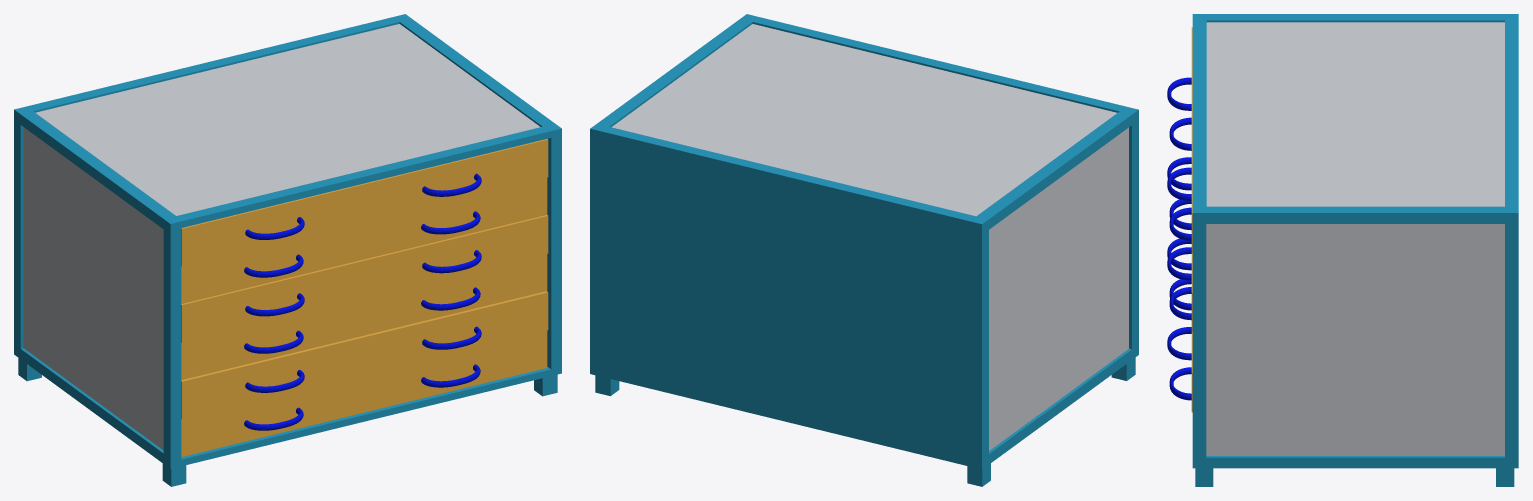
Rendered from table cabinet.fbx.
3 views of the same model, side by side, from view 1: azimuth 30°, elevation 25°; view 2: azimuth 150°, elevation 25°; view 3: azimuth 270°, elevation 25° (orthographic). The views are drawn at different scales.
Visible parts, largest first — view 1: ShelfCage, Draw.004, Draw.002, Draw, Draw.005, Draw.001, Draw.003; view 2: ShelfCage; view 3: ShelfCage, Draw, Draw.002, Draw.004, Draw.001, Draw.005, Draw.003.
Boxes of the visible parts, x1,y1,x2,y2 form: ShelfCage: (14,14,561,486); Draw.004: (181,291,548,419); Draw.002: (181,215,548,342); Draw: (181,139,548,266); Draw.005: (181,330,547,456); Draw.001: (181,177,547,303); Draw.003: (181,254,547,379); ShelfCage: (590,14,1138,486); ShelfCage: (1192,14,1518,486); Draw: (1167,27,1192,252); Draw.002: (1167,157,1192,332); Draw.004: (1167,238,1192,412); Draw.001: (1169,117,1191,240); Draw.005: (1169,279,1191,400); Draw.003: (1169,199,1191,320).
Size of the model in its own units: 104 by 67.12 by 77.61.
